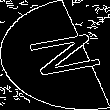N_E: (9, 29, 101, 81)
